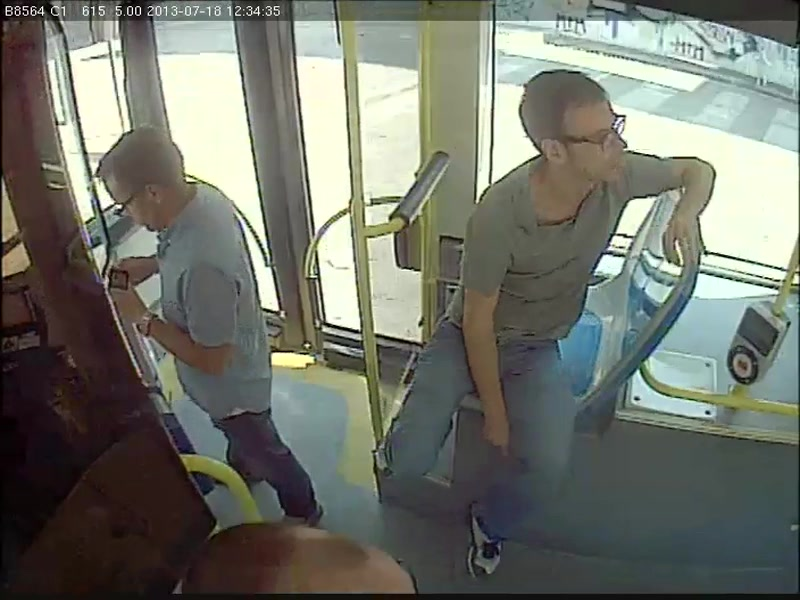Head: (179, 521, 425, 600), (507, 64, 648, 195), (90, 122, 193, 236)
